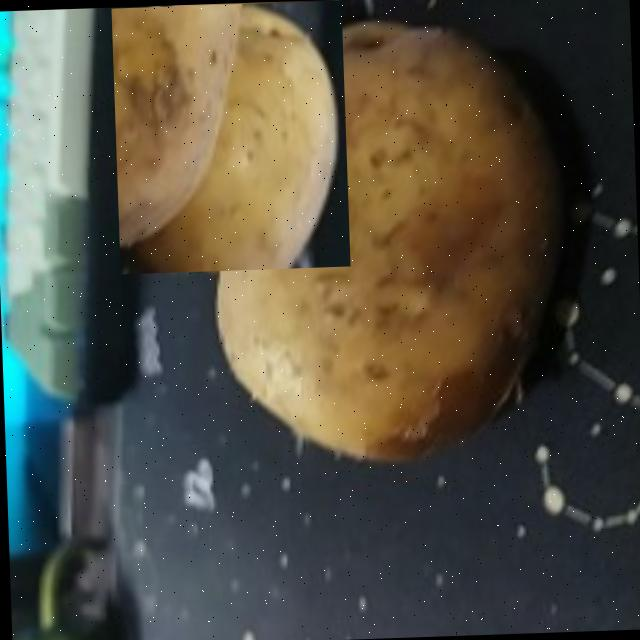Damaged potato: (210, 12, 579, 480)
Potato: (110, 0, 349, 274)
